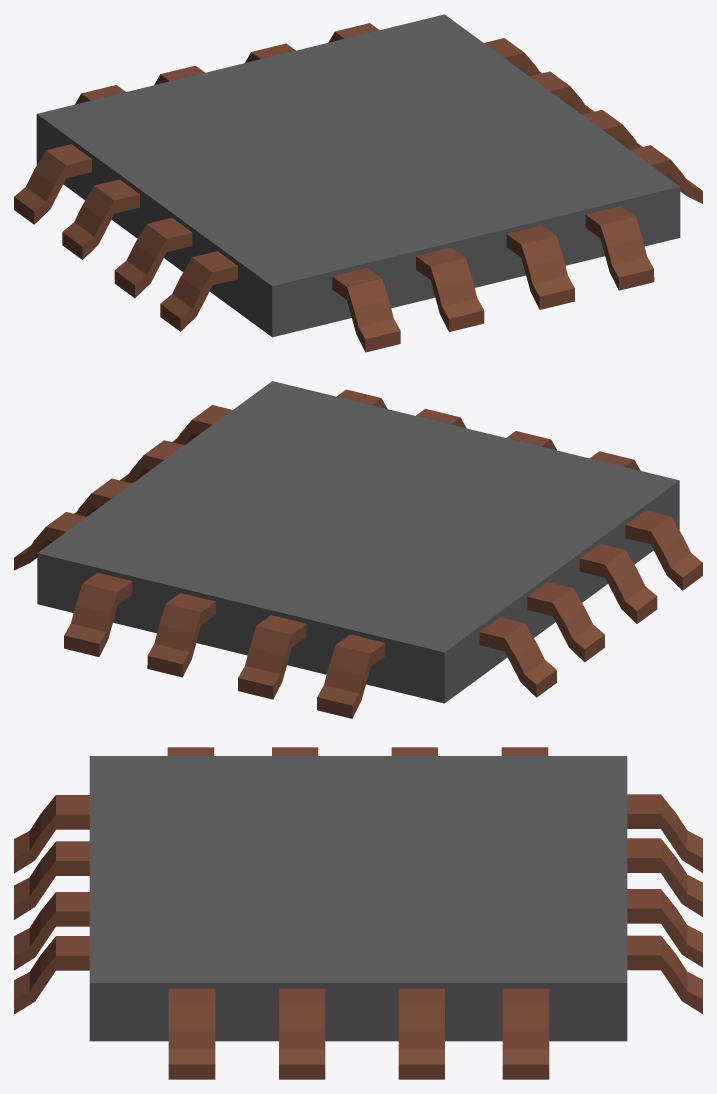
File: Modulo de microchips 2.fbx
The picture shows the model from 3 angles, top to bottom: view 1: azimuth 30°, elevation 25°; view 2: azimuth 150°, elevation 25°; view 3: azimuth 270°, elevation 25°; orthographic projection. The views are drawn at different scales.
Parts seen in each view (by area): view 1: Cube.001; view 2: Cube.001; view 3: Cube.001.
Boxes of the visible parts, box(x1,y1,x2,y2) form: Cube.001: box(14, 14, 702, 352); Cube.001: box(14, 381, 702, 718); Cube.001: box(14, 747, 702, 1079).
Size of the model in its own units: 480 by 49.71 by 480.
